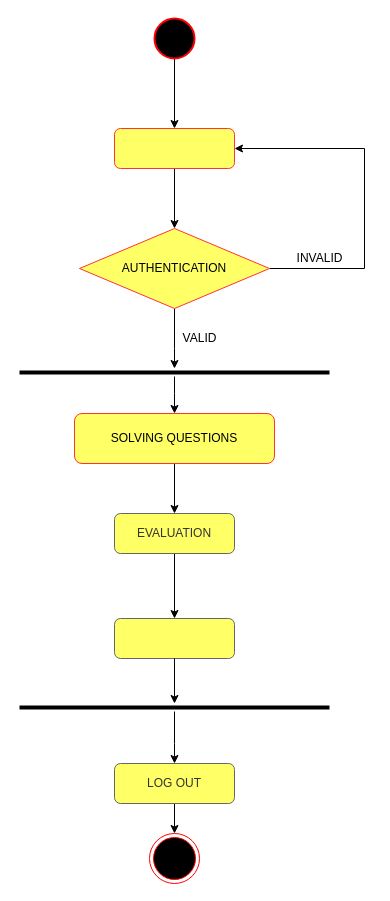
Some shapes in this 390 by 901 pixel diagram are drawn without their labels. The shapes that lost their labels are listed below. From the top down, each one's centre as x and y in pixels, then its label:
At (x=174, y=148): "LOGIN".
At (x=174, y=638): "VIEW SCORE".
